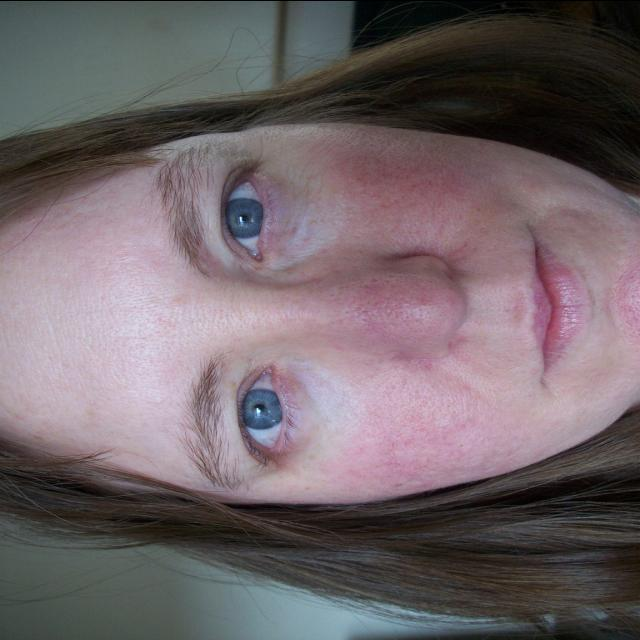Rosacea: (336, 147, 479, 236)
